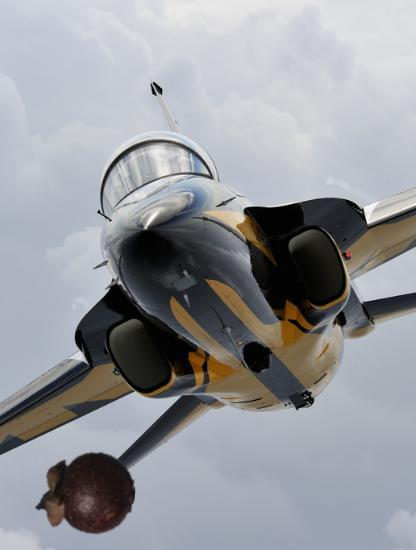Mangostan: (37, 443, 136, 542)
